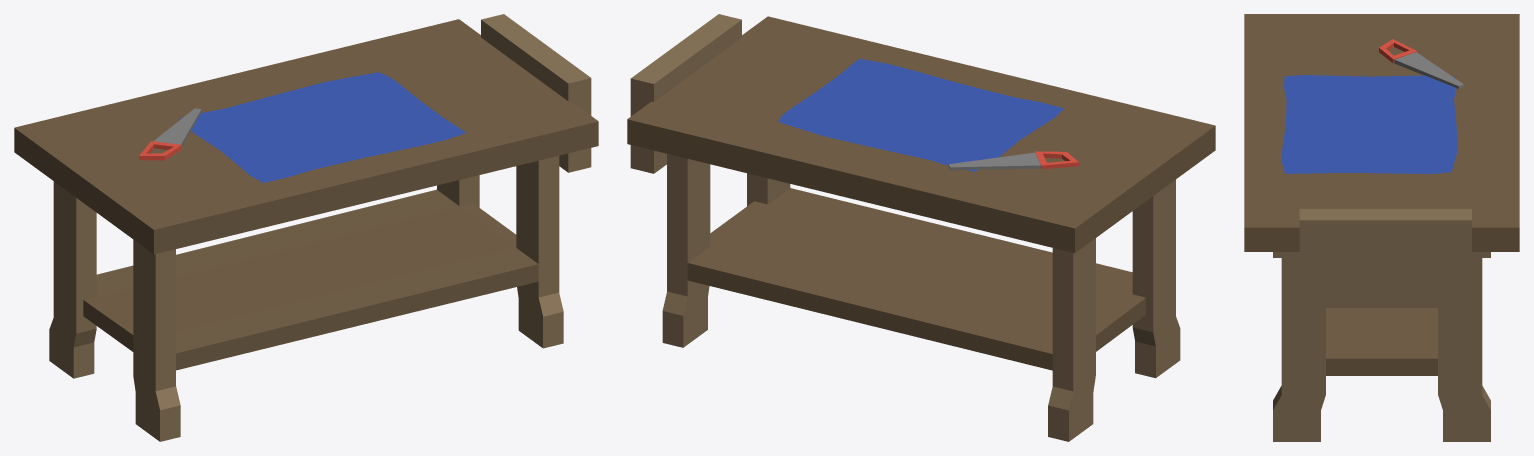
Rendered from MesaDeCrafteo.fbx.
The picture shows the model from 3 angles, left to right: view 1: azimuth 30°, elevation 25°; view 2: azimuth 150°, elevation 25°; view 3: azimuth 270°, elevation 25°; orthographic projection. The views are drawn at different scales.
Visible parts, largest first — view 1: Cube, Cube.003, Cube.002; view 2: Cube, Cube.003, Cube.002; view 3: Cube, Cube.003, Cube.002.
Boxes of the visible parts, x1,y1,x2,y2 form: Cube: [14, 14, 598, 441]; Cube.003: [179, 72, 466, 182]; Cube.002: [138, 108, 201, 160]; Cube: [627, 14, 1215, 441]; Cube.003: [778, 58, 1063, 171]; Cube.002: [948, 151, 1079, 170]; Cube: [1244, 14, 1519, 441]; Cube.003: [1281, 75, 1457, 173]; Cube.002: [1379, 39, 1463, 88].
Size of the model in its own units: 167 by 84.16 by 86.88.
